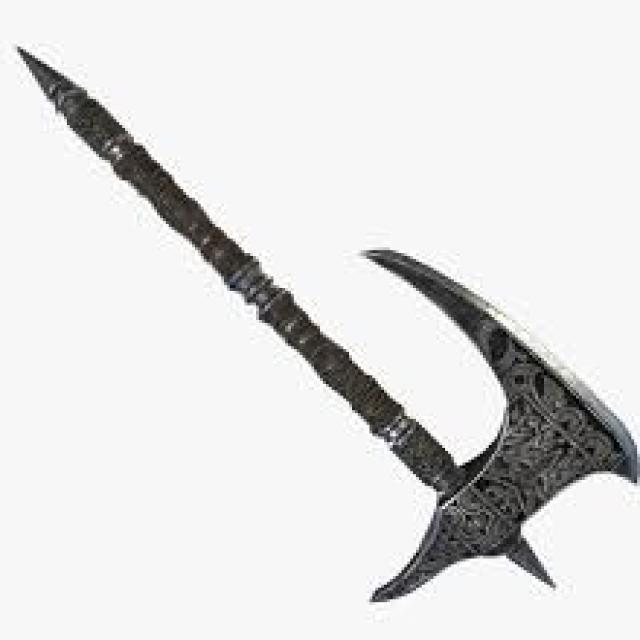Gun: (14, 35, 640, 629)
